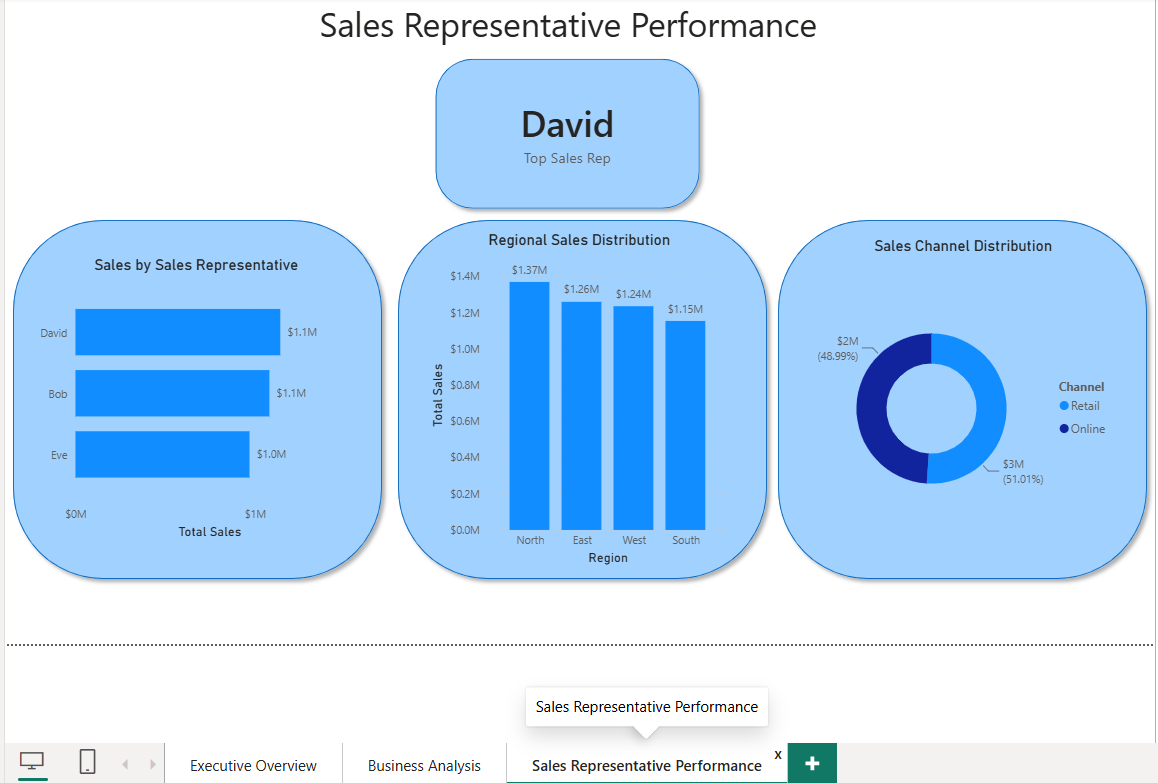

What the dashboard file says about the page in this screenshot:
{"tool":"powerbi","page":{"name":"Sales Representative Performance","canvas":[1280,720],"ordinal":2},"visuals":[{"type":"shape","box":[0,239.3,428.5,417.4],"z":0},{"type":"clusteredBarChart","title":"Sales by Sales Representative","fields":{"Category":["sales_data.Sales_Rep"],"Y":["Sum(sales_data.Sales_Amount)"]},"box":[30.6,288,364.5,320],"z":1000},{"type":"shape","box":[851.5,239.3,428.5,417.4],"z":1500},{"type":"shape","box":[470.3,59.8,311.8,184.6],"z":6000},{"type":"textbox","box":[331.1,0,591.3,59.8],"z":7000},{"type":"cardVisual","fields":{"Data":["sales_data.Top Sales Rep"]},"box":[531.5,68.2,189.5,165.1],"z":8000},{"type":"shape","box":[428.5,239.3,428.5,417.4],"z":9000},{"type":"clusteredColumnChart","title":"Regional Sales Distribution","fields":{"Y":["Sum(sales_data.Sales_Amount)"],"Category":["sales_data.Region"]},"box":[468.9,260.2,340.9,377],"z":10000},{"type":"donutChart","title":"Sales Channel Distribution","fields":{"Category":["sales_data.Sales_Channel"],"Y":["Sum(sales_data.Sales_Amount)"]},"box":[884.9,267.1,363.1,363.1],"z":12000}]}

Visuals, with their boxes on the page's 1280x720 design canvas (x1, y1, x2, y2). These are canvas units, not pixel positions in the 1158x783 screenshot, which may show the page scaled, cropped or inside an application window:
shape: l=0, t=239, r=428, b=657
"Sales by Sales Representative" clusteredBarChart: l=31, t=288, r=395, b=608
shape: l=852, t=239, r=1280, b=657
shape: l=470, t=60, r=782, b=244
textbox: l=331, t=0, r=922, b=60
cardVisual - sales_data.Top Sales Rep: l=532, t=68, r=721, b=233
shape: l=428, t=239, r=857, b=657
"Regional Sales Distribution" clusteredColumnChart: l=469, t=260, r=810, b=637
"Sales Channel Distribution" donutChart: l=885, t=267, r=1248, b=630
